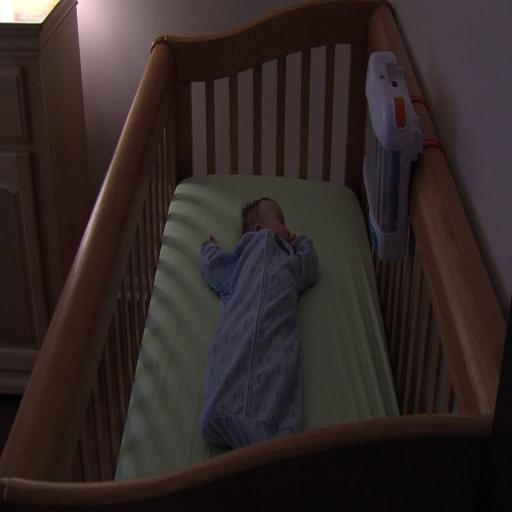baby: (200, 198, 317, 447)
crib: (0, 0, 505, 509)
